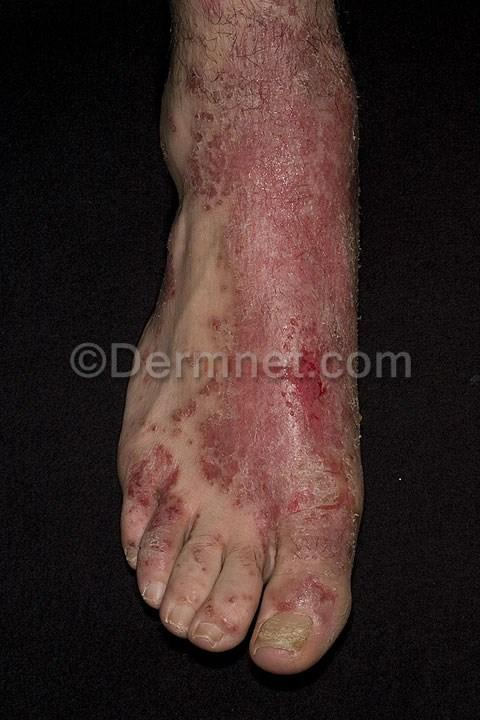Eczema: (165, 2, 343, 349), (206, 373, 353, 590), (131, 385, 220, 512), (198, 577, 247, 639), (307, 580, 353, 641), (141, 514, 193, 564)
